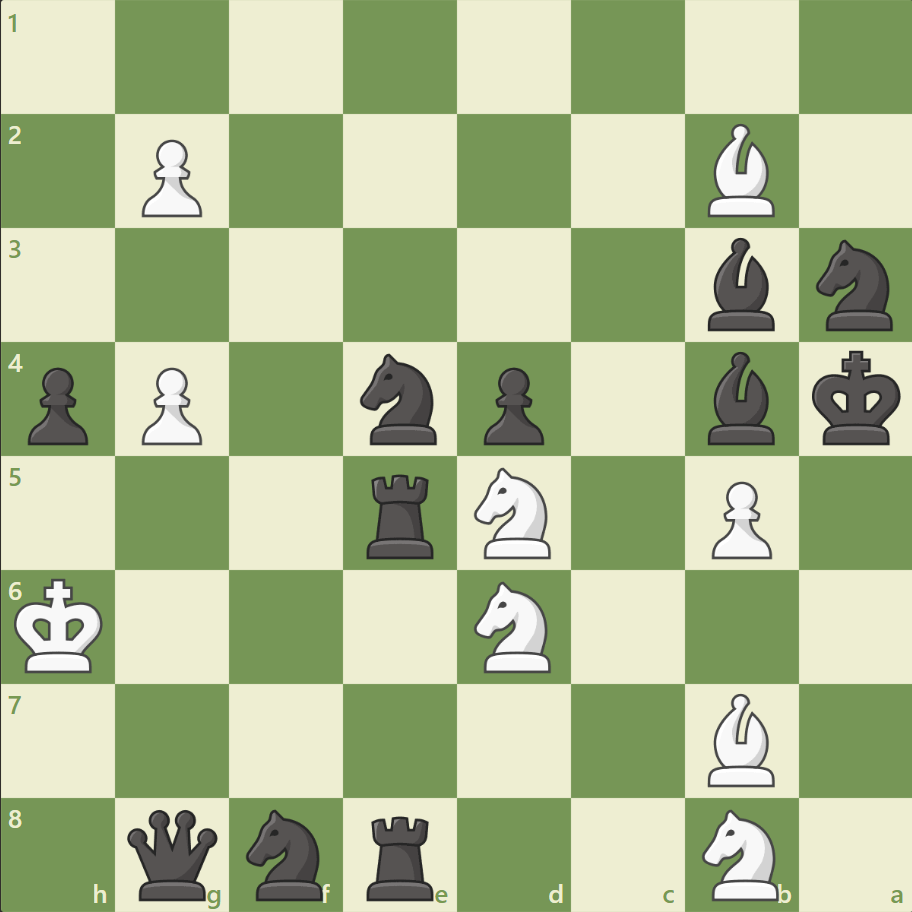B: (698, 687, 782, 790), (698, 120, 782, 222)
K: (11, 571, 111, 679)
N: (465, 461, 562, 564), (692, 802, 789, 904), (465, 575, 562, 677)
P: (701, 473, 776, 564), (133, 359, 208, 450), (133, 132, 208, 223)
b: (698, 233, 782, 336), (698, 347, 782, 449)
k: (806, 344, 906, 452)
n: (351, 348, 449, 450), (806, 234, 903, 337), (238, 802, 335, 904)
p: (474, 359, 549, 450), (20, 359, 95, 450)
q: (124, 804, 223, 903)
r: (360, 806, 442, 904), (360, 466, 442, 563)
